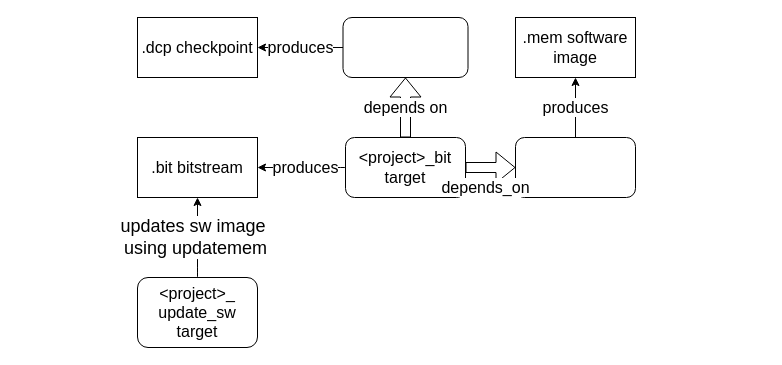
This 782x365 diagram has some shape labels left out. The shapes that lost their labels are listed below. From the top down, each one's centre as x and y in pixels, then its label:
point 405,47: <project>_synth target
point 575,167: project software target
